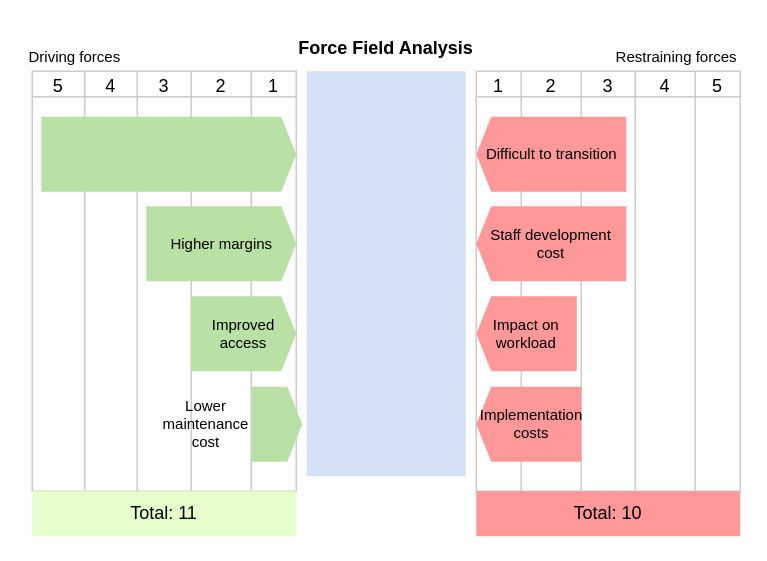
Image size: 767x561. Some labels were removed from this diagram. The shapes that lost their labels are listed below. From the top down, each one's box as (x1, y1, x2, y2) in pixels, then its label:
(40, 116, 296, 191): Improved customer response time
(306, 70, 465, 476): Upgrade IT system X
